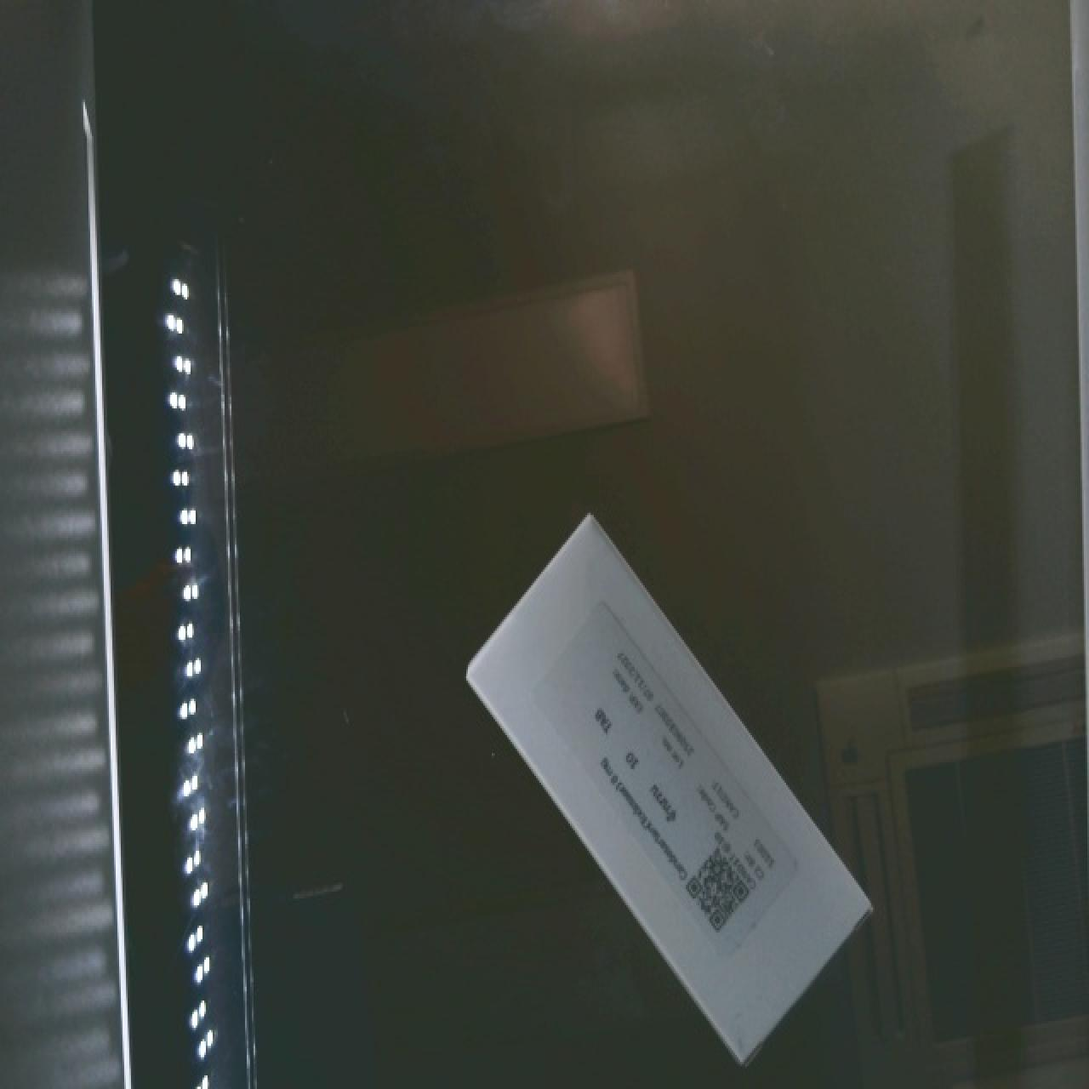qr_code: (655, 813, 795, 954)
